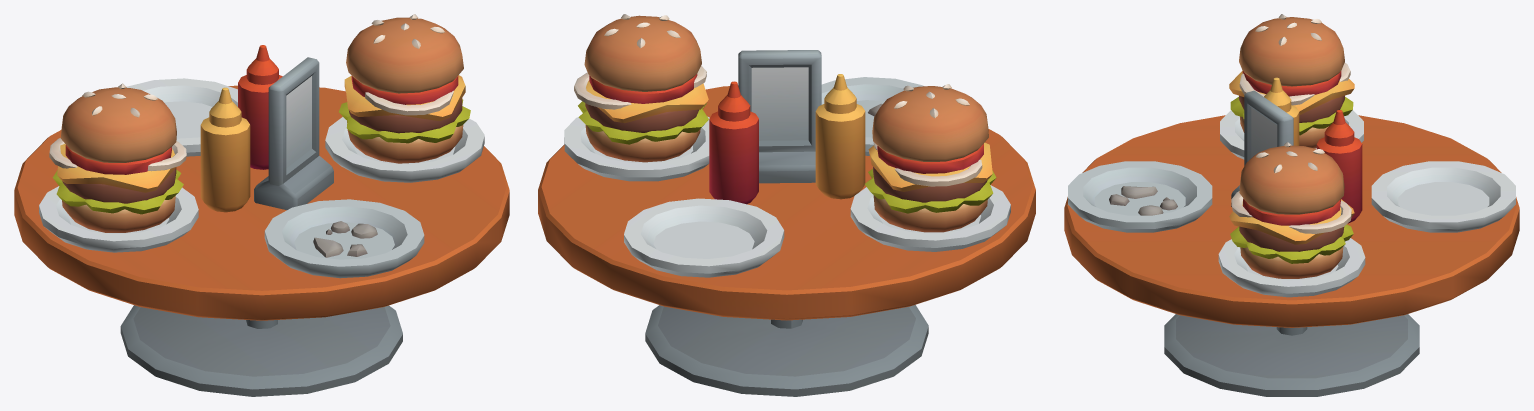
Rendered from table-round-a-decorated.glb.
The picture shows the model from 3 angles, left to right: view 1: azimuth 30°, elevation 25°; view 2: azimuth 150°, elevation 25°; view 3: azimuth 270°, elevation 25°; orthographic projection. The views are drawn at different scales.
Parts seen in each view (by area): view 1: table_round_A_decorated; view 2: table_round_A_decorated; view 3: table_round_A_decorated.
Boxes of the visible parts, left/top/right/bottom form: table_round_A_decorated: left=14, top=14, right=509, bottom=396; table_round_A_decorated: left=538, top=14, right=1035, bottom=396; table_round_A_decorated: left=1064, top=14, right=1519, bottom=396.
Size of the model in its own units: 3 by 1.86 by 3.
1 material, 1 textured.
